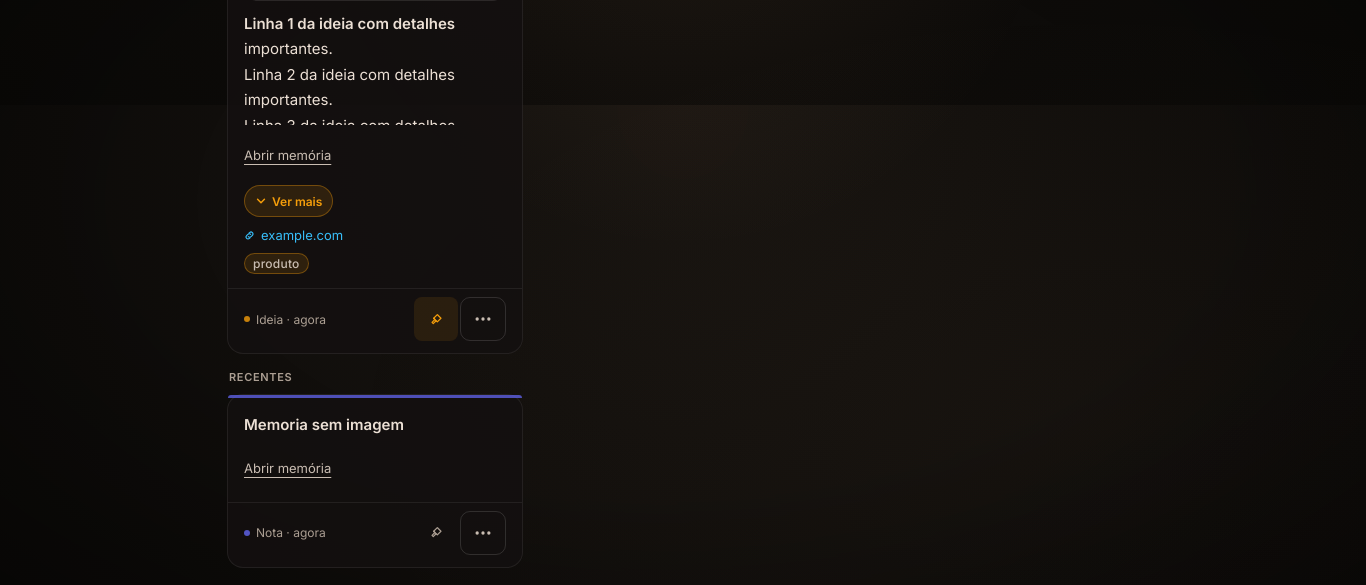
Test: App long content affordances › collapses long cards and lets the user expand them
(page scrolled)
Click the button with aria-label "Ver ideia completa": (289, 201) [244,185,333,217]
(page scrolled)
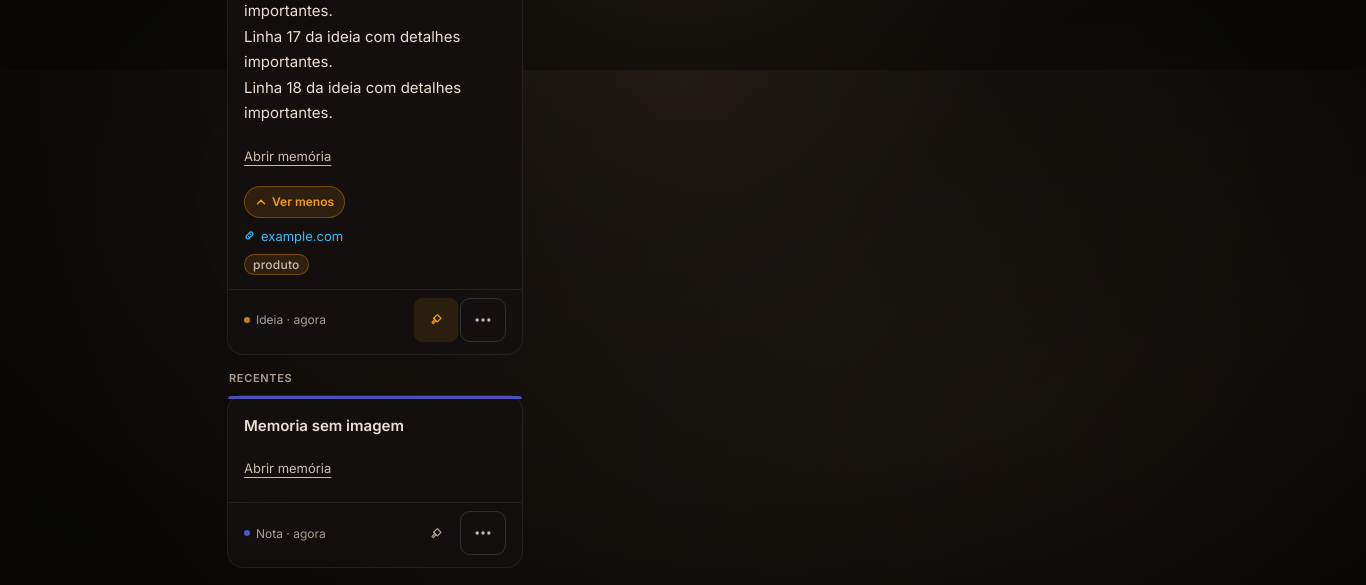
expect the button with aria-label "Recolher ideia" is shown: met, box [244,186,345,218]
